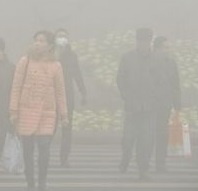person: (9, 29, 66, 191), (116, 26, 160, 175), (150, 32, 194, 177), (48, 27, 88, 169), (1, 39, 14, 167)
